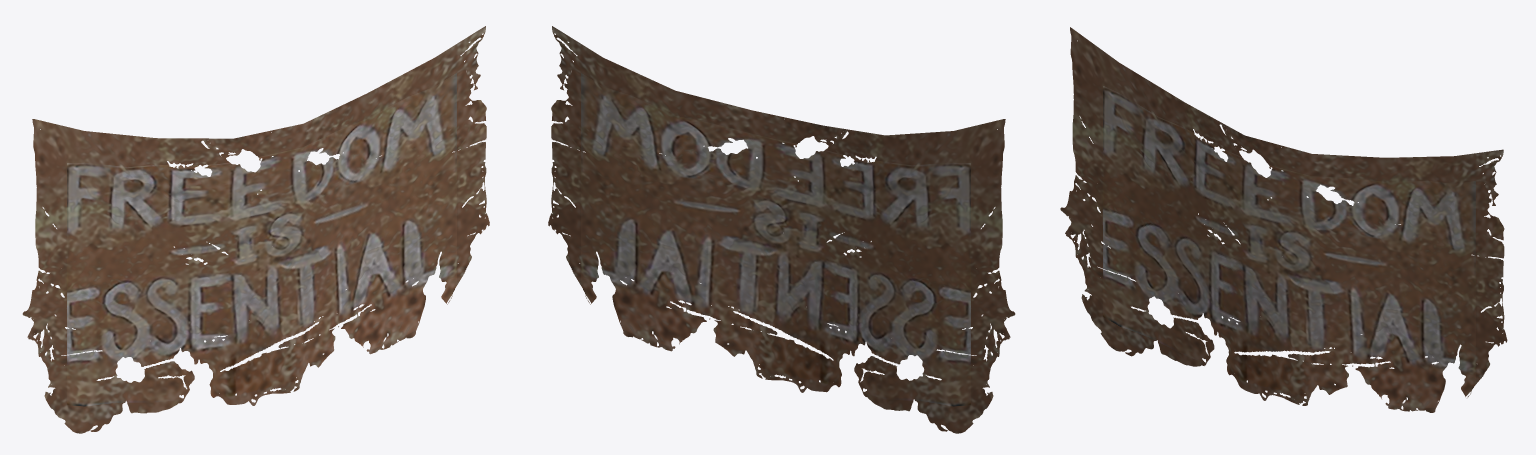
Rendered from Prop_Flag_Freedom.FBX.
The picture shows the model from 3 angles, left to right: view 1: azimuth 30°, elevation 25°; view 2: azimuth 150°, elevation 25°; view 3: azimuth 330°, elevation 25°; orthographic projection. The views are drawn at different scales.
Parts seen in each view (by area): view 1: Prop_Flag_Freedom; view 2: Prop_Flag_Freedom; view 3: Prop_Flag_Freedom.
Boxes of the visible parts, <box> form: Prop_Flag_Freedom: <box>22,26,489,433</box>; Prop_Flag_Freedom: <box>548,26,1015,433</box>; Prop_Flag_Freedom: <box>1060,27,1507,412</box>.
Size of the model in its own units: 10.15 by 7.25 by 0.3236.
